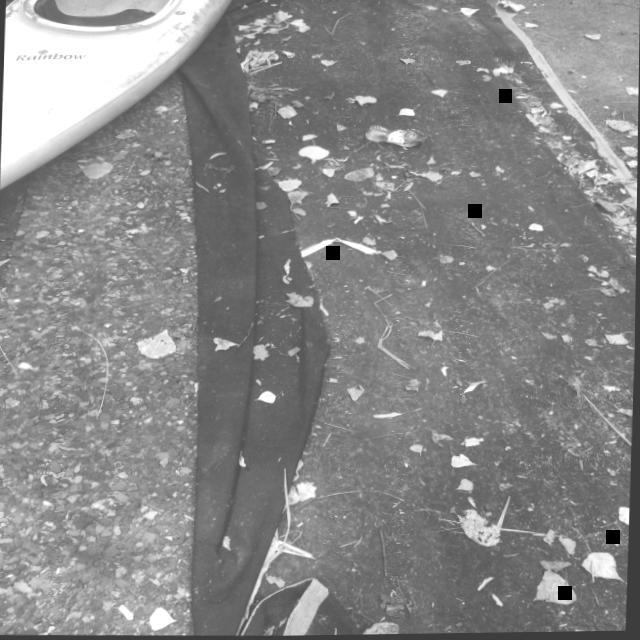Cigarette: (119, 604, 135, 620)
Clear plastic bottle: (366, 126, 427, 148)
Normal paper: (301, 239, 383, 258)
Plastic bottle cap: (421, 138, 427, 146)
